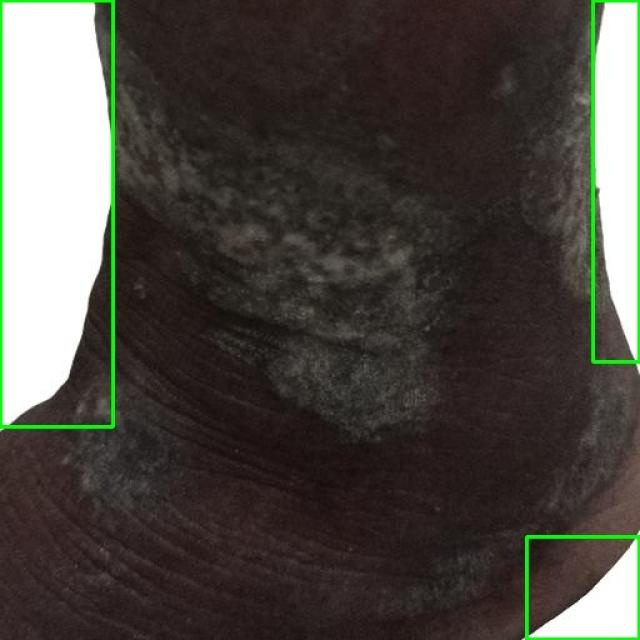Eczema: (0, 0, 112, 426), (592, 0, 639, 361), (526, 536, 639, 639)
